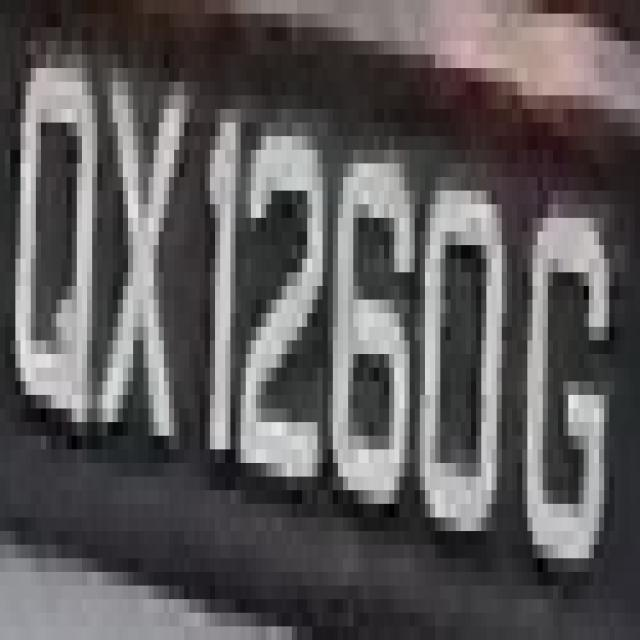0: (415, 122, 507, 544)
1: (194, 95, 230, 477)
2: (230, 96, 318, 490)
6: (322, 95, 410, 531)
G: (517, 177, 625, 586)
Q: (16, 27, 108, 436)
X: (87, 0, 179, 436)
